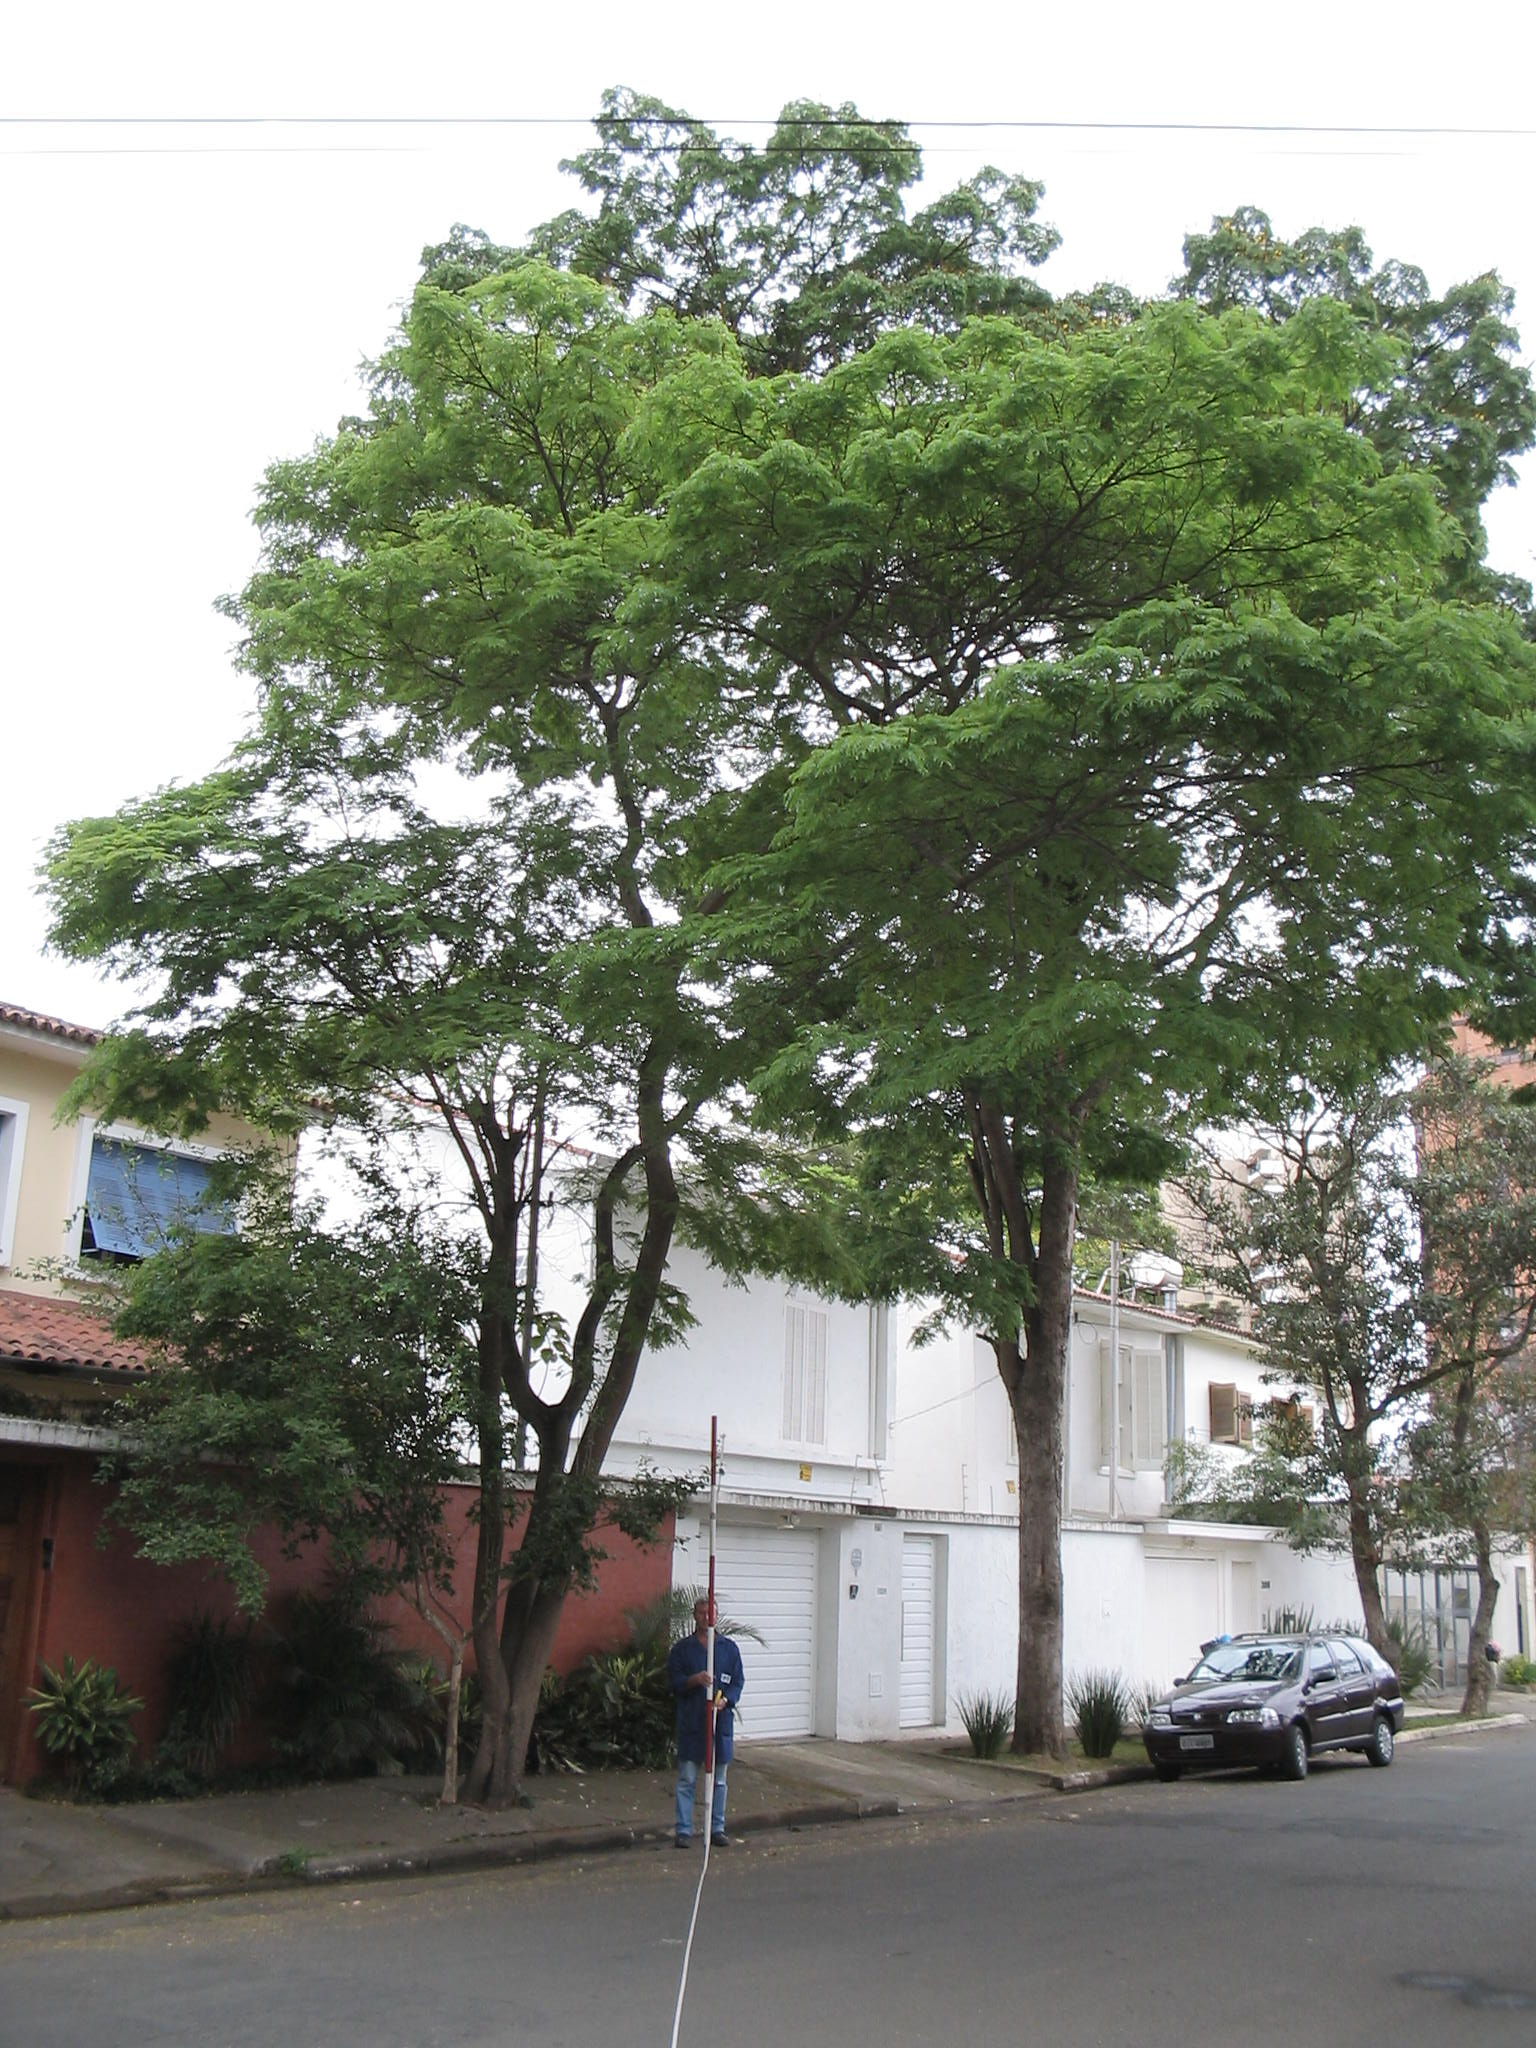crown: (48, 274, 1004, 1358)
stem: (465, 1408, 623, 1811), (970, 1363, 1108, 1753)
stick: (682, 1413, 745, 1851)
tree: (39, 268, 1007, 1816), (1178, 1082, 1533, 1713)
